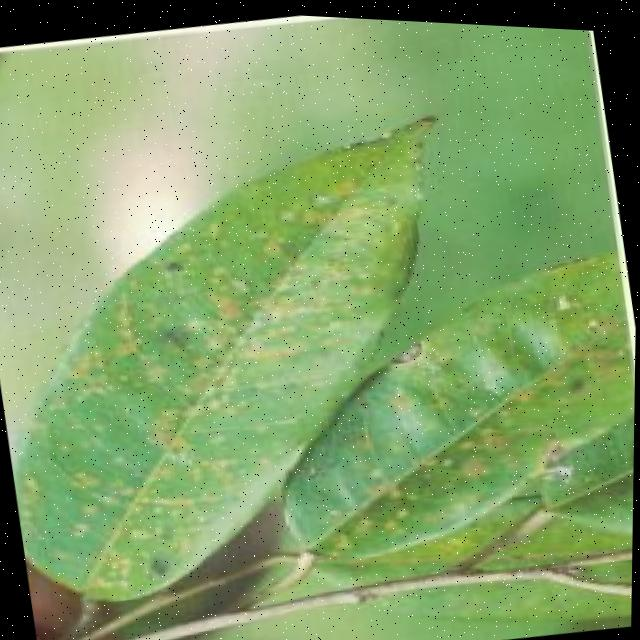Anthracnose: (0, 47, 639, 640)
